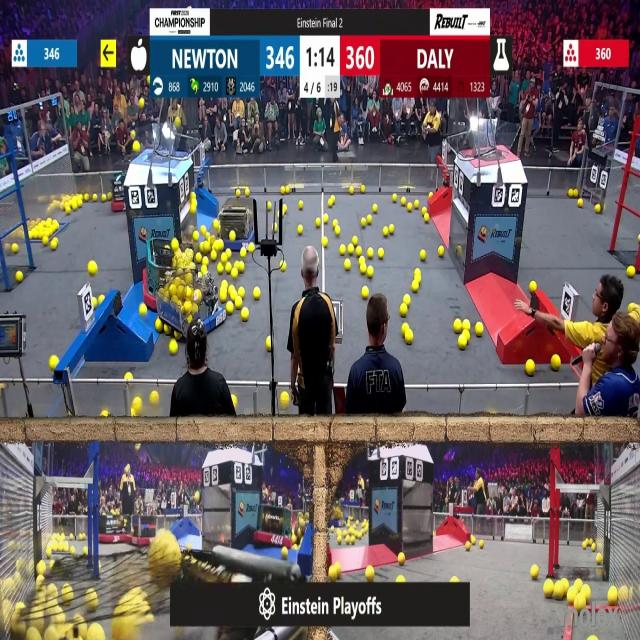ball_airborne: (133, 141, 140, 152), (140, 98, 145, 108), (175, 117, 180, 127), (132, 131, 136, 139)
ball_ground: (607, 589, 617, 607), (574, 593, 585, 608), (552, 354, 562, 370), (280, 392, 290, 408), (543, 582, 552, 599), (567, 588, 576, 604), (328, 566, 338, 580), (584, 586, 592, 603), (474, 322, 482, 336), (526, 360, 534, 374), (170, 341, 178, 355), (49, 355, 57, 369), (365, 566, 373, 580), (531, 565, 539, 579), (458, 337, 466, 351), (149, 392, 158, 404), (214, 240, 223, 252), (90, 263, 98, 276), (406, 332, 414, 345), (38, 562, 46, 575), (252, 288, 260, 300), (399, 306, 407, 318), (412, 281, 420, 293), (454, 320, 462, 332), (235, 297, 243, 309), (242, 309, 249, 321), (628, 267, 635, 279), (397, 554, 404, 566), (267, 338, 273, 352), (225, 303, 232, 315), (140, 305, 147, 317), (461, 320, 469, 330), (132, 408, 140, 418), (219, 290, 227, 300), (15, 272, 22, 283), (362, 286, 368, 298), (415, 270, 421, 282), (155, 320, 161, 332), (348, 245, 355, 255), (596, 555, 603, 565), (220, 252, 227, 262), (462, 329, 469, 339), (379, 248, 385, 259), (530, 281, 536, 292), (50, 239, 56, 250), (366, 268, 372, 279), (233, 395, 239, 406), (194, 252, 200, 263), (451, 575, 459, 583), (146, 616, 154, 624), (203, 255, 210, 264), (572, 188, 579, 197), (341, 246, 347, 256), (346, 262, 352, 272), (403, 294, 409, 304), (360, 266, 366, 276), (239, 288, 245, 298), (282, 548, 288, 558), (233, 270, 239, 280), (291, 534, 297, 544), (401, 322, 407, 332), (212, 251, 218, 261), (42, 237, 48, 247), (201, 242, 207, 252), (396, 575, 404, 582), (76, 201, 84, 208), (420, 207, 427, 215), (322, 238, 328, 247), (316, 218, 322, 227), (356, 246, 362, 255), (596, 205, 602, 214), (239, 264, 245, 273), (12, 244, 18, 253), (217, 266, 223, 275), (99, 294, 105, 303), (336, 226, 342, 235), (93, 296, 99, 305), (346, 535, 352, 544), (421, 250, 426, 260), (440, 247, 445, 257), (367, 248, 372, 258), (165, 324, 170, 334), (383, 225, 388, 235), (93, 192, 99, 200), (360, 218, 366, 226), (387, 224, 393, 232), (358, 256, 364, 264), (224, 266, 230, 274), (352, 237, 358, 245), (127, 373, 133, 381), (83, 192, 89, 200), (248, 244, 254, 252), (82, 548, 88, 556), (66, 207, 72, 215), (348, 186, 354, 194), (297, 224, 302, 233), (424, 214, 429, 223), (241, 249, 246, 258), (371, 204, 376, 213), (366, 215, 371, 224), (192, 233, 197, 242), (100, 194, 105, 203), (408, 203, 413, 212), (282, 205, 287, 214), (415, 201, 420, 210), (331, 219, 337, 226), (102, 412, 108, 419), (244, 188, 250, 195), (577, 200, 582, 208), (465, 541, 470, 549), (392, 193, 397, 201), (568, 188, 573, 196), (400, 198, 405, 206), (470, 536, 475, 544), (360, 185, 365, 193), (225, 250, 230, 258), (328, 199, 332, 208), (108, 191, 112, 200), (237, 189, 242, 196), (298, 202, 302, 210), (269, 203, 273, 211), (324, 215, 328, 223), (282, 265, 286, 273), (202, 225, 206, 233), (481, 539, 485, 547), (275, 222, 279, 230), (339, 536, 343, 544), (357, 534, 361, 542), (636, 236, 640, 244), (428, 191, 433, 197), (281, 186, 285, 193), (592, 543, 596, 550), (0, 383, 4, 389)
goal: (465, 122, 522, 160), (128, 128, 186, 160)
robot_blue: (160, 266, 228, 336), (219, 195, 257, 252)
robot_red: (98, 510, 146, 545), (259, 504, 294, 548), (110, 188, 126, 213)
